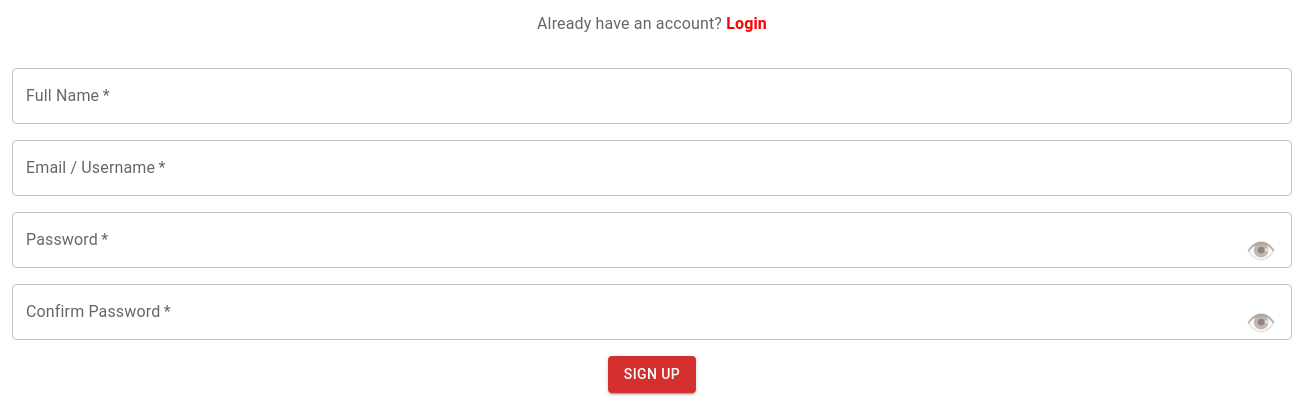
Test case: SignupForm › submits form successfully and shows success snackbar
This screenshot has width=1304, height=413.
Type "John Doe" into the field with placeholder "Enter your full name". click: (652, 96)
box: [12,68,1292,124]
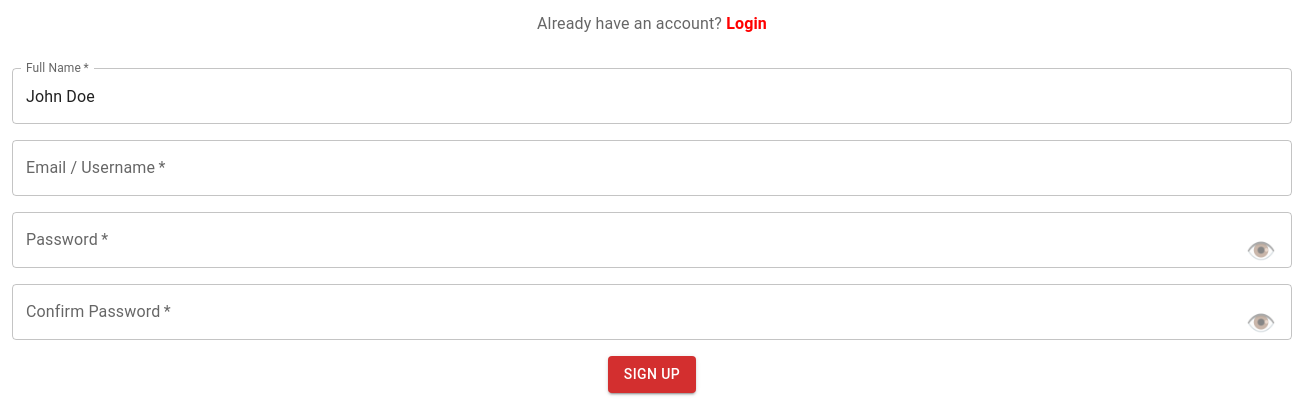
Type "john@example.com" into the field with placeholder "Enter email or username". click: (652, 168)
box: [12,140,1292,196]
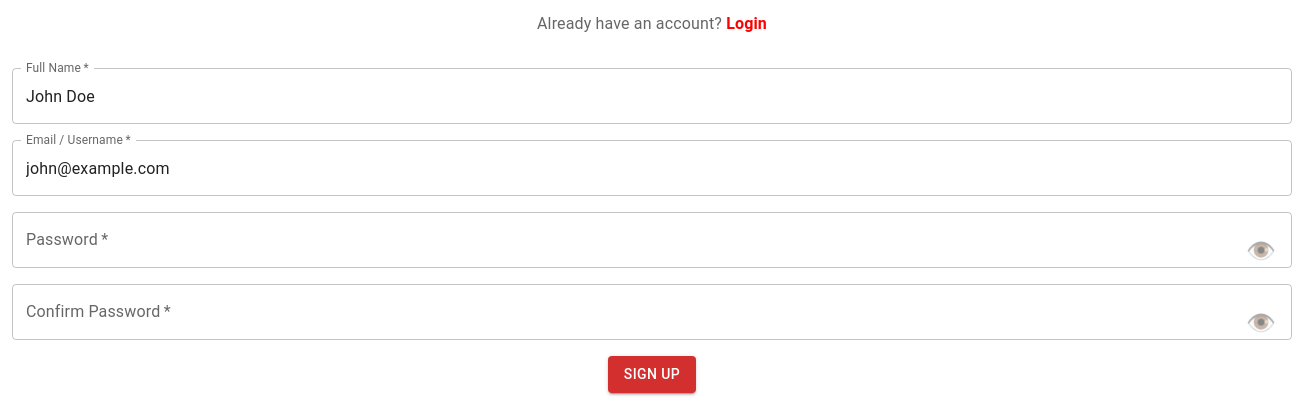
Type "password123" into the password field with placeholder "Create a password". click: (652, 240)
box: [12,212,1292,268]
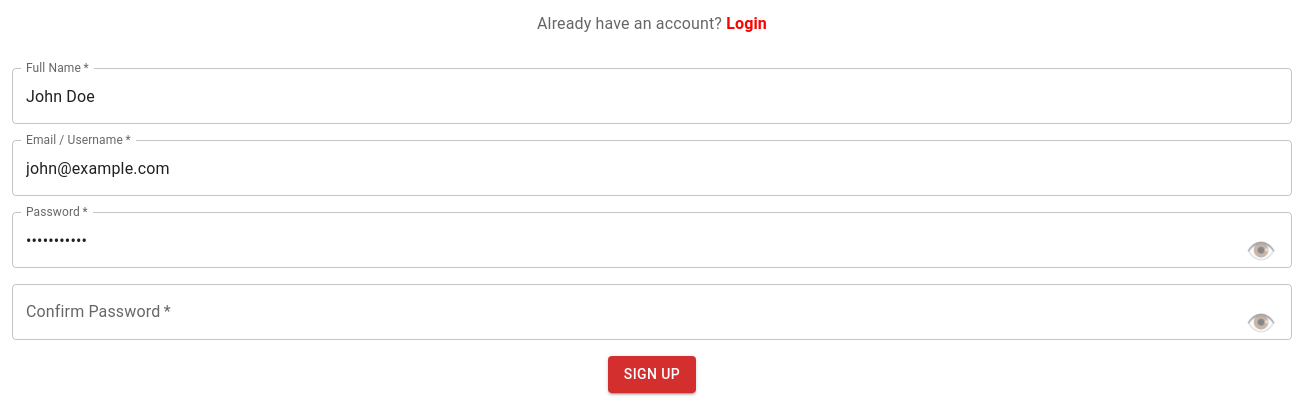
Type "password123" into the password field with placeholder "Re-enter password". click: (652, 312)
box: [12,284,1292,340]
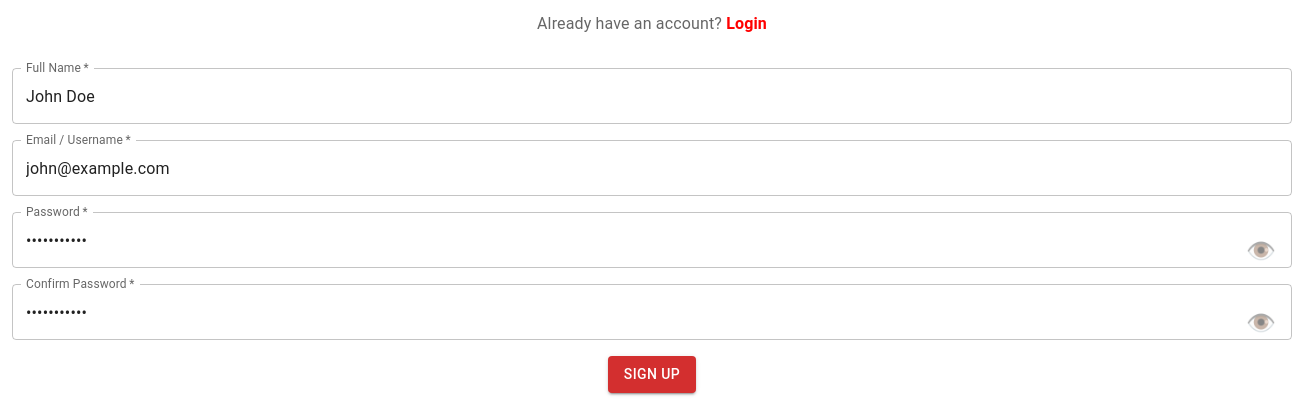
Click the button "Sign Up". click: (652, 374)
box: [608,356,696,392]
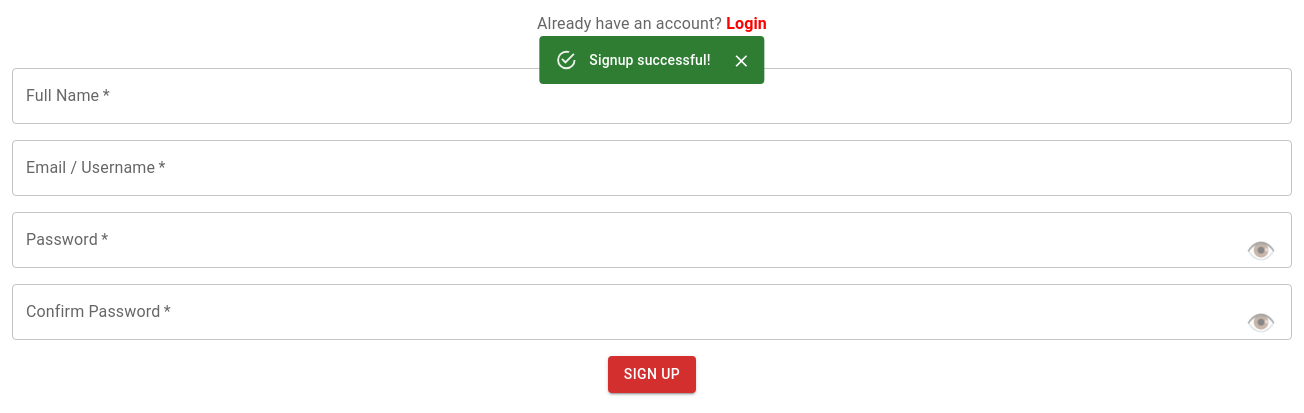
Expected: the text "Signup successful!" is shown, [589,52,711,68]
